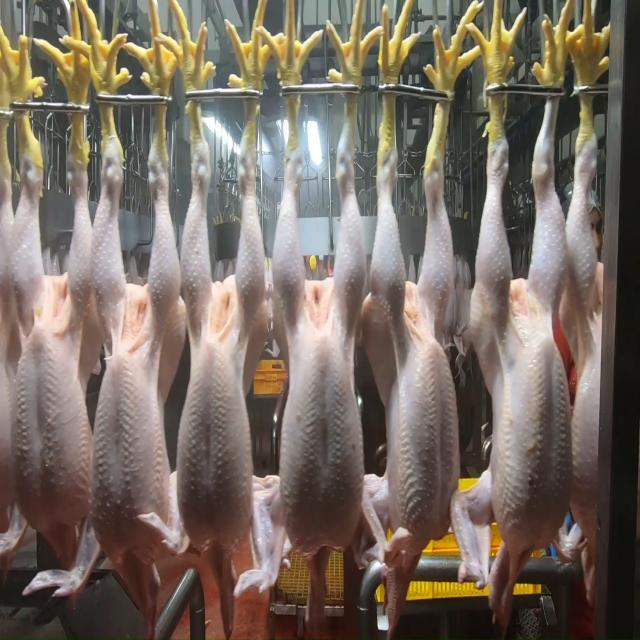chicken: (468, 152, 568, 546), (360, 174, 468, 538), (268, 172, 370, 553), (178, 168, 266, 561), (94, 172, 178, 564), (15, 163, 96, 537)
